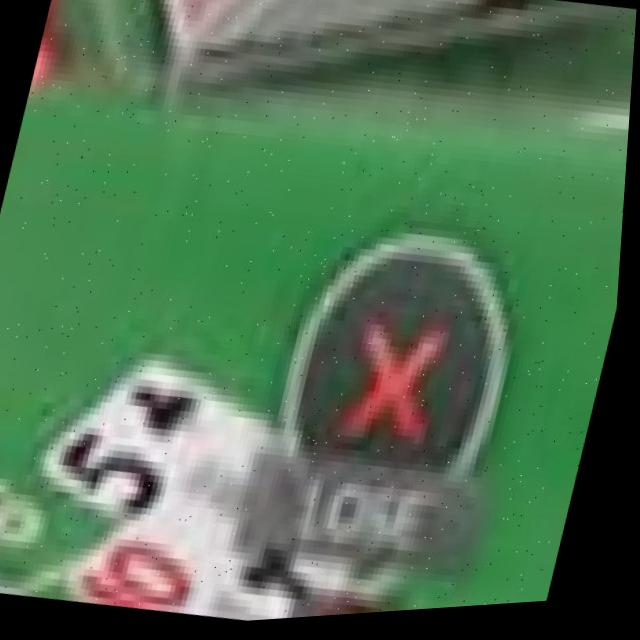Card-10: (70, 523, 298, 624)
Card-5: (47, 350, 425, 622)
